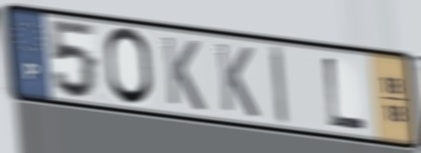5: (45, 16, 101, 101)
I: (268, 44, 291, 128)
K: (159, 33, 207, 115), (213, 40, 261, 121)
L: (322, 54, 369, 133)
O: (103, 25, 156, 109)
